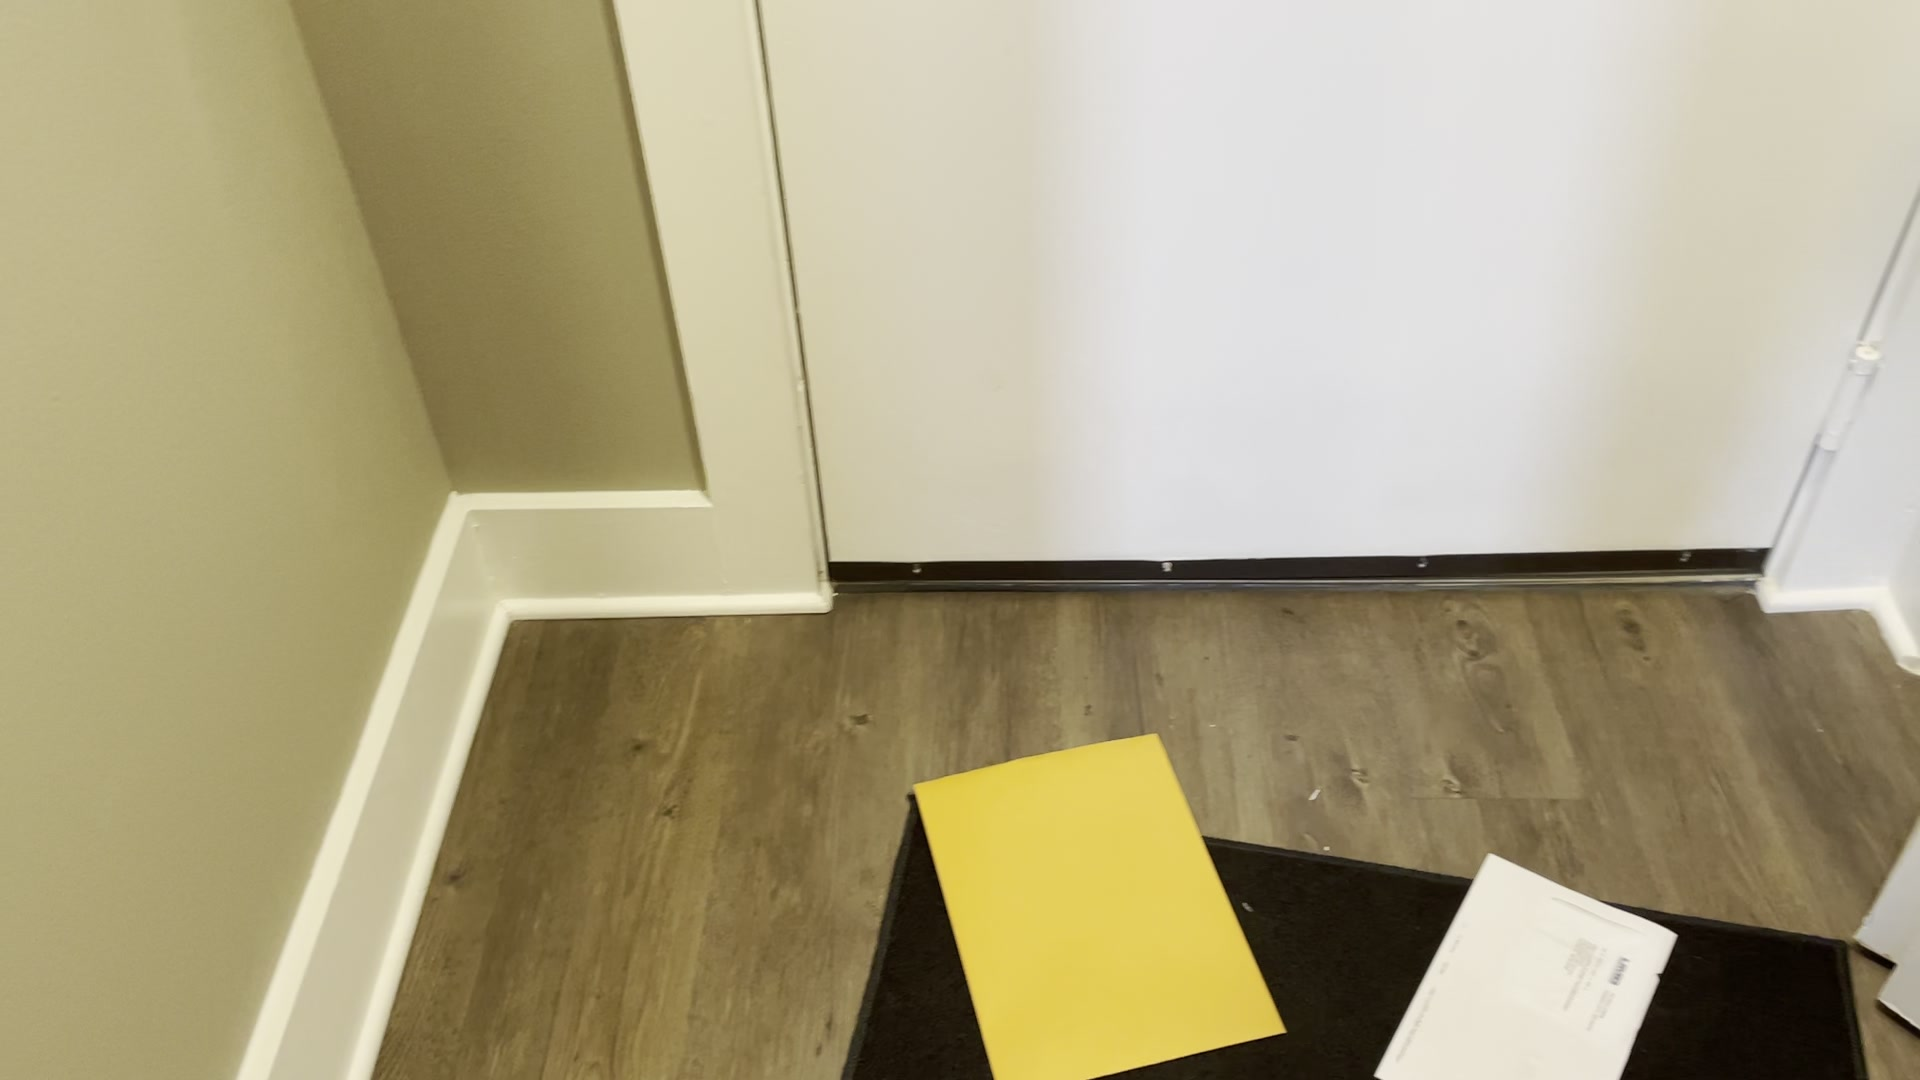envelope: (898, 725, 1304, 1077), (1367, 829, 1688, 1080)
